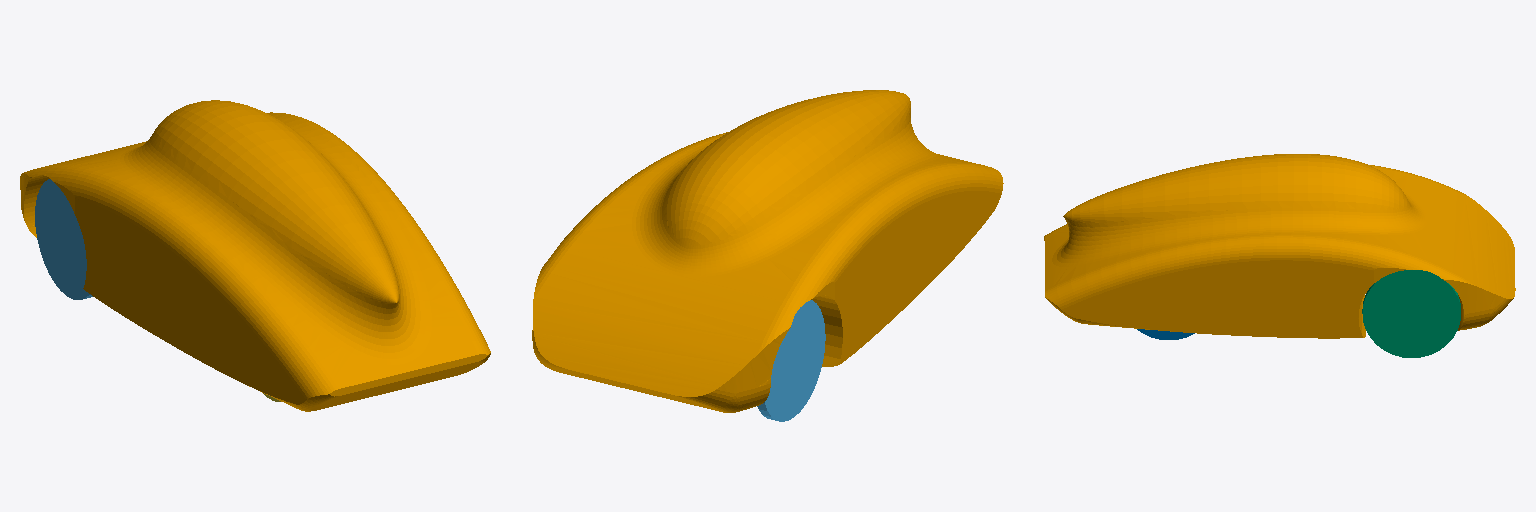
robot.urdf — pars:
<?xml version="1.0" ?>
<robot name="pars">
  <material name="blue">
    <color rgba="0 0 1 1"/>
  </material>

  <material name="black">
    <color rgba="0 0 0 1"/>
  </material>

  <material name="white">
    <color rgba="1 1 1 1"/>
  </material>

  <material name="red">
    <color rgba="0.8 0 0 1"/>
  </material>

  <material name="green">
    <color rgba="0 1 0 1"/>
  </material>

  <material name="yellow">
    <color rgba="1 1 0 1"/>
  </material>
    
  
  <link name="pars__body">
    <inertial>
      <mass value="92.0"/>
      <origin rpy="0 0 0" xyz="0  0  0.6"/>
      <inertia ixx="0.7" ixy="0" ixz="0" iyy="0.2" iyz="0" izz="0.8"/>
    </inertial>
    <collision name="pars__base_link_inertia_collision">
      <origin rpy="0 0 1.5707" xyz="0   0   0.13"/>
      <geometry>
        <mesh filename="package://angelshark_sim/models/angelshark/meshes/pars.stl" scale="0.16 0.16 0.16"/>
      </geometry>
    </collision>
    <visual name="pars__base_link_inertia_visual">
      <origin rpy="0 0 1.5707" xyz="0   0   0.13"/>
      <geometry>
        <mesh filename="package://angelshark_sim/models/angelshark/meshes/pars.stl" scale="0.16 0.16 0.16"/>
      </geometry>
    </visual>
  </link>
  <link name="pars__front_left_wheel">
    <inertial>
      <mass value="1.0"/>
      <origin rpy="0 0 0" xyz="0 0 0"/>
      <inertia ixx="0.03" ixy="0.00" ixz="0.00" iyy="0.03" iyz="0.00" izz="0.058"/>
    </inertial>
    <collision name="pars__collision">
      <origin rpy="0 0 0" xyz="0 0 0"/>
      <geometry>
        <cylinder length=".05" radius=".2932"/>
      </geometry>
    </collision>
    <visual name="pars__visual">
      <origin rpy="0 0 0" xyz="0 0 0"/>
      <geometry>
        <cylinder length=".05" radius=".2932"/>
      </geometry>
    </visual>
  </link>
  <link name="pars__front_right_wheel">
    <inertial>
      <mass value="1.0"/>
      <origin rpy="0 0 0" xyz="0 0 0"/>
      <inertia ixx="0.03" ixy="0.00" ixz="0.00" iyy="0.03" iyz="0.00" izz="0.058"/>
    </inertial>
    <collision name="pars__collision">
      <origin rpy="0 0 0" xyz="0 0 0"/>
      <geometry>
        <cylinder length=".05" radius=".2932"/>
      </geometry>
    </collision>
    <visual name="pars__visual">
      <origin rpy="0 0 0" xyz="0 0 0"/>
      <geometry>
        <cylinder length=".05" radius=".2932"/>
      </geometry>
    </visual>
  </link>
  <link name="pars__rear_left_wheel">
    <inertial>
      <mass value="2.0"/>
      <origin rpy="0 0 0" xyz="0 0 0"/>
      <inertia ixx="0.03" ixy="0.00" ixz="0.00" iyy="0.03" iyz="0.00" izz="0.058"/>
    </inertial>
    <collision name="pars__collision">
      <origin rpy="0 0 0" xyz="0 0 0"/>
      <geometry>
        <cylinder length=".05" radius=".2932"/>
      </geometry>
    </collision>
    <visual name="pars__visual">
      <origin rpy="0 0 0" xyz="0 0 0"/>
      <geometry>
        <cylinder length=".05" radius=".2932"/>
      </geometry>
    </visual>
  </link>
  <link name="pars__rear_right_wheel">
    <inertial>
      <mass value="2.0"/>
      <origin rpy="0 0 0" xyz="0 0 0"/>
      <inertia ixx="0.03" ixy="0.00" ixz="0.00" iyy="0.03" iyz="0.00" izz="0.058"/>
    </inertial>
    <collision name="pars__collision">
      <origin rpy="0 0 0" xyz="0 0 0"/>
      <geometry>
        <cylinder length=".05" radius=".2932"/>
      </geometry>
    </collision>
    <visual name="pars__visual">
      <origin rpy="0 0 0" xyz="0 0 0"/>
      <geometry>
        <cylinder length=".05" radius=".2932"/>
      </geometry>
    </visual>
  </link>
  <link name="pars__FLwheel_steer">
    <inertial>
      <mass value="1.0"/>
      <origin rpy="0 0 0" xyz="0 0 0"/>
      <inertia ixx="0.03" ixy="0.00" ixz="0.00" iyy="0.03" iyz="0.00" izz="0.058"/>
    </inertial>
  </link>
  <link name="pars__FRwheel_steer">
    <inertial>
      <mass value="1.0"/>
      <origin rpy="0 0 0" xyz="0 0 0"/>
      <inertia ixx="0.03" ixy="0.00" ixz="0.00" iyy="0.03" iyz="0.00" izz="0.058"/>
    </inertial>
  </link>
  
  <joint name="pars__jFRsteer" type="revolute">
    <parent link="pars__body"/>
    <child link="pars__FRwheel_steer"/>
    <origin rpy="0     1.5707 0" xyz="0.55 0.74 0.3"/>
    <axis xyz="1 0 0"/>
    <limit effort="10.0" lower="-1.0" upper="1.0" velocity="30"/>
  </joint>
  <joint name="pars__jFLsteer" type="revolute">
    <parent link="pars__body"/>
    <child link="pars__FLwheel_steer"/>
    <origin rpy="0     1.5707 0" xyz="-0.55  0.74  0.3"/>
    <axis xyz="1 0 0"/>
    <limit effort="10.0" lower="-1.0" upper="1.0" velocity="30"/>
  </joint>
  <joint name="pars__jFR" type="continuous">
    <parent link="pars__FRwheel_steer"/>
    <child link="pars__front_right_wheel"/>
    <origin rpy="0 0 0" xyz="0 0 0"/>
    <axis xyz="0 0 -1"/>
    <limit effort="1000" velocity="30"/>
  </joint>
  <joint name="pars__jFL" type="continuous">
    <parent link="pars__FLwheel_steer"/>
    <child link="pars__front_left_wheel"/>
    <origin rpy="0 0 0" xyz="0 0 0"/>
    <axis xyz="0 0 -1"/>
    <limit effort="1000" velocity="30"/>
  </joint>
  <joint name="pars__jRR" type="continuous">
    <parent link="pars__body"/>
    <child link="pars__rear_right_wheel"/>
    <origin rpy="0     1.5707 0" xyz="0.3 -0.7  0.3"/>
    <axis xyz="0 0 -1"/>
    <limit effort="1000" velocity="30"/>
  </joint>
  <joint name="pars__jRL" type="continuous">
    <parent link="pars__body"/>
    <child link="pars__rear_left_wheel"/>
    <origin rpy="0     1.5707 0" xyz="-0.3 -0.7  0.3"/>
    <axis xyz="0 0 -1"/>
    <limit effort="1000" velocity="30"/>
  </joint>
  
  <!--                GAZEBO RELATED PART                             -->
 
  <!-- ROS Control plugin for Gazebo -->
  <gazebo>
    <plugin name="gazebo_ros_control" filename="libgazebo_ros_control.so">
      <robotNamespace>/pars</robotNamespace>
      <robotSimType>gazebo_ros_control/DefaultRobotHWSim</robotSimType>
    </plugin>
    <plugin name="imu_plugin" filename="libgazebo_ros_imu.so">
      <alwaysOn>true</alwaysOn>
      <bodyName>pars__body</bodyName>
      <topicName>pars/imu</topicName>
      <serviceName>imu_service</serviceName>
      <gaussianNoise>0.0</gaussianNoise>
      <updateRate>20.0</updateRate>
    </plugin>
  </gazebo>
  
  <transmission name="FRsteer_transmission" type="SimpleTransmission">
    <type>transmission_interface/SimpleTransmission</type>
    <actuator name="FRsteerMotor">
      <hardwareInterface>hardware_interface/EffortJointInterface</hardwareInterface>
      <mechanicalReduction>1</mechanicalReduction>
    </actuator>
    <joint name="pars__jFRsteer">
      <hardwareInterface>hardware_interface/EffortJointInterface</hardwareInterface>
    </joint>
  </transmission>
  <transmission name="FLsteer_transmission" type="SimpleTransmission">
    <type>transmission_interface/SimpleTransmission</type>
    <actuator name="FLsteerMotor">
      <hardwareInterface>hardware_interface/EffortJointInterface</hardwareInterface>
      <mechanicalReduction>1</mechanicalReduction>
    </actuator>
    <joint name="pars__jFLsteer">
      <hardwareInterface>hardware_interface/EffortJointInterface</hardwareInterface>
    </joint>
  </transmission>
  
  <transmission name="FR_transmission" type="SimpleTransmission">
    <type>transmission_interface/SimpleTransmission</type>
    <actuator name="FRMotor">
      <hardwareInterface>hardware_interface/EffortJointInterface</hardwareInterface>
      <mechanicalReduction>1</mechanicalReduction>
    </actuator>
    <joint name="pars__jFR">
      <hardwareInterface>hardware_interface/EffortJointInterface</hardwareInterface>
    </joint>
  </transmission>
  <transmission name="FL_transmission" type="SimpleTransmission">
    <type>transmission_interface/SimpleTransmission</type>
    <actuator name="FLMotor">
      <hardwareInterface>hardware_interface/EffortJointInterface</hardwareInterface>
      <mechanicalReduction>1</mechanicalReduction>
    </actuator>
    <joint name="pars__jFL">
      <hardwareInterface>hardware_interface/EffortJointInterface</hardwareInterface>
    </joint>
  </transmission>
  <transmission name="RR_transmission" type="SimpleTransmission">
    <type>transmission_interface/SimpleTransmission</type>
    <actuator name="RRMotor">
      <hardwareInterface>hardware_interface/EffortJointInterface</hardwareInterface>
      <mechanicalReduction>1</mechanicalReduction>
    </actuator>
    <joint name="pars__jRR">
      <hardwareInterface>hardware_interface/EffortJointInterface</hardwareInterface>
    </joint>
  </transmission>
  <transmission name="RL_transmission" type="SimpleTransmission">
    <type>transmission_interface/SimpleTransmission</type>
    <actuator name="RLMotor">
      <hardwareInterface>hardware_interface/EffortJointInterface</hardwareInterface>
      <mechanicalReduction>1</mechanicalReduction>
    </actuator>
    <joint name="pars__jRL">
      <hardwareInterface>hardware_interface/EffortJointInterface</hardwareInterface>
    </joint>
  </transmission>

</robot>

--- Render facts (derived) ---
Views: 3 orthographic renders of the robot side by side, from view 1: azimuth 30°, elevation 25°; view 2: azimuth 150°, elevation 25°; view 3: azimuth 270°, elevation 25°.
Model pars with 7 links and 6 joints (2 revolute, 4 continuous), rooted at pars__body, posed all joints at 0.
Visible links, largest first — view 1: pars__body, pars__front_left_wheel; view 2: pars__body, pars__front_left_wheel; view 3: pars__body, pars__front_right_wheel.
Boxes of the visible links, <box> form: pars__body: <box>20,100,490,411</box>; pars__front_left_wheel: <box>35,179,92,299</box>; pars__body: <box>532,90,1003,412</box>; pars__front_left_wheel: <box>757,300,825,421</box>; pars__body: <box>1044,154,1515,338</box>; pars__front_right_wheel: <box>1362,270,1460,357</box>.
Size in the robot's own frame: 1.32 by 2.79 by 1.03 metres.
Meshes: 1 distinct files referenced, 1 mesh visuals loaded (1 binary STL).